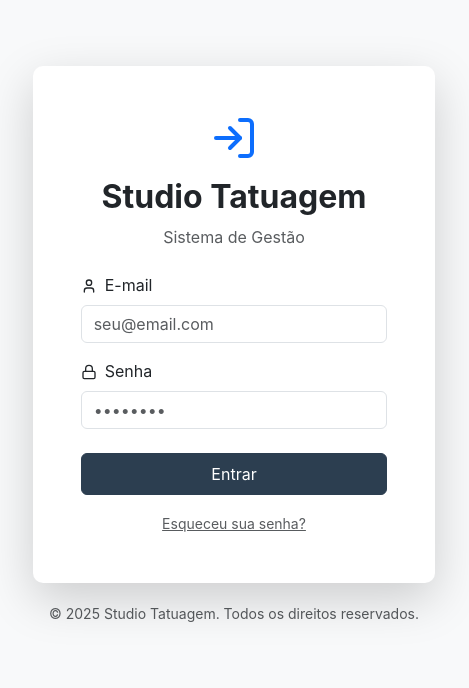
Test: Login - Falhas esperadas › Email inexistente
This screenshot has width=469, height=688.
Type "naoexiste@email.com" into the field named "email" at (235, 324), box [81,305,388,343]
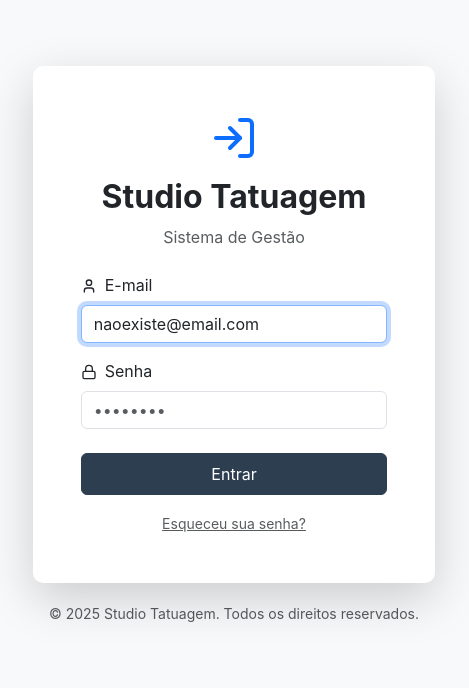
Type "123456" into the password field named "senha" at (235, 410), box [81,391,388,429]
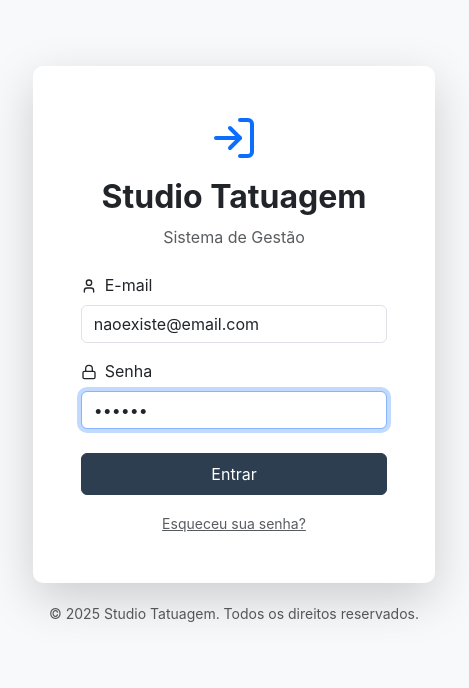
Click the submit button at (235, 474), box [81,453,388,495]
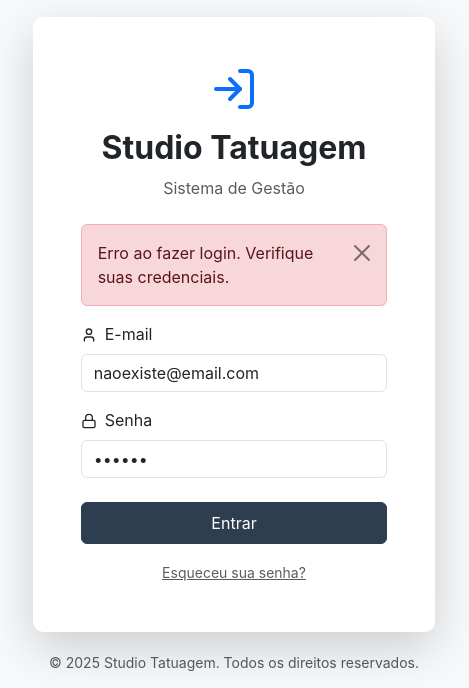
Expected: the text "Verifique suas credenciais" is shown, [98,243,314,287]
